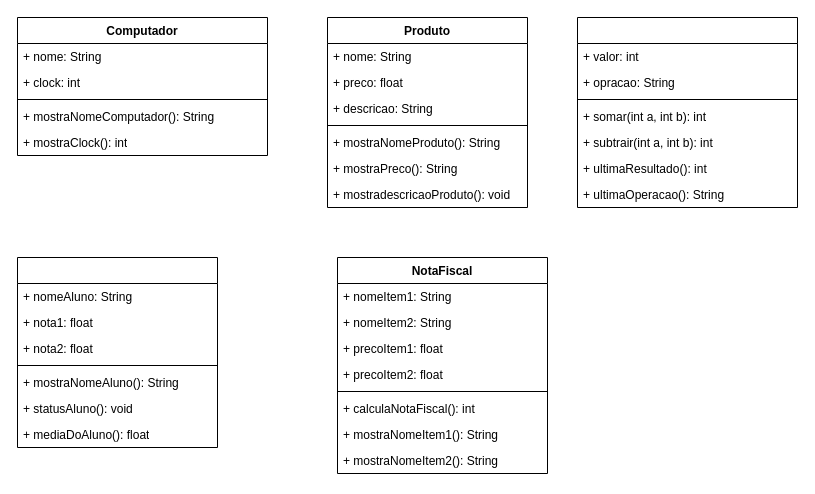
Image size: 815x494. Some labels were removed from this diagram. The shapes that lost their labels are listed below. From the top down, each one's box as (x1, y1, x2, y2) in pixels, then its label:
(576, 16, 798, 208): Classname
(16, 256, 218, 448): NotaAluno
